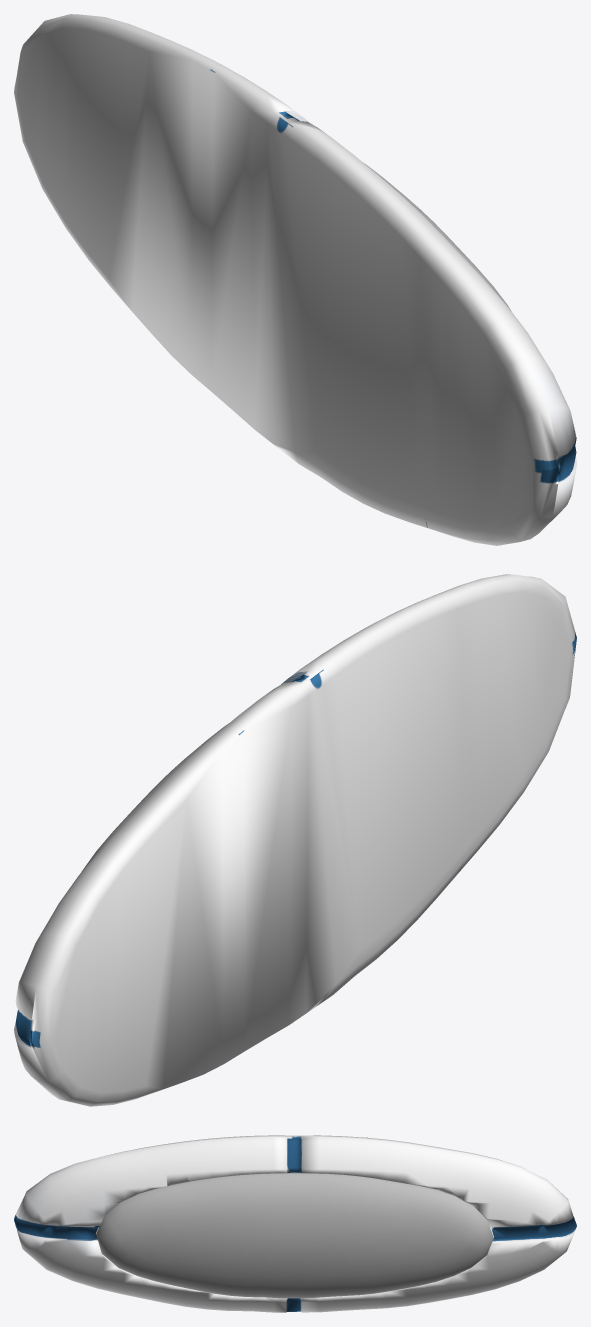
The model's file is timer (1).fbx.
The picture shows the model from 3 angles, top to bottom: view 1: azimuth 30°, elevation 25°; view 2: azimuth 150°, elevation 25°; view 3: azimuth 270°, elevation 25°; orthographic projection. The views are drawn at different scales.
Parts seen in each view (by area): view 1: timer; view 2: timer; view 3: timer, timer.001.
Part boxes in pixels (x1,y1,x2,y2): timer: (14,14,576,545); timer: (14,574,576,1106); timer: (14,1135,576,1312); timer.001: (96,1172,493,1298).
Size of the model in its own units: 44.15 by 124 by 358.
